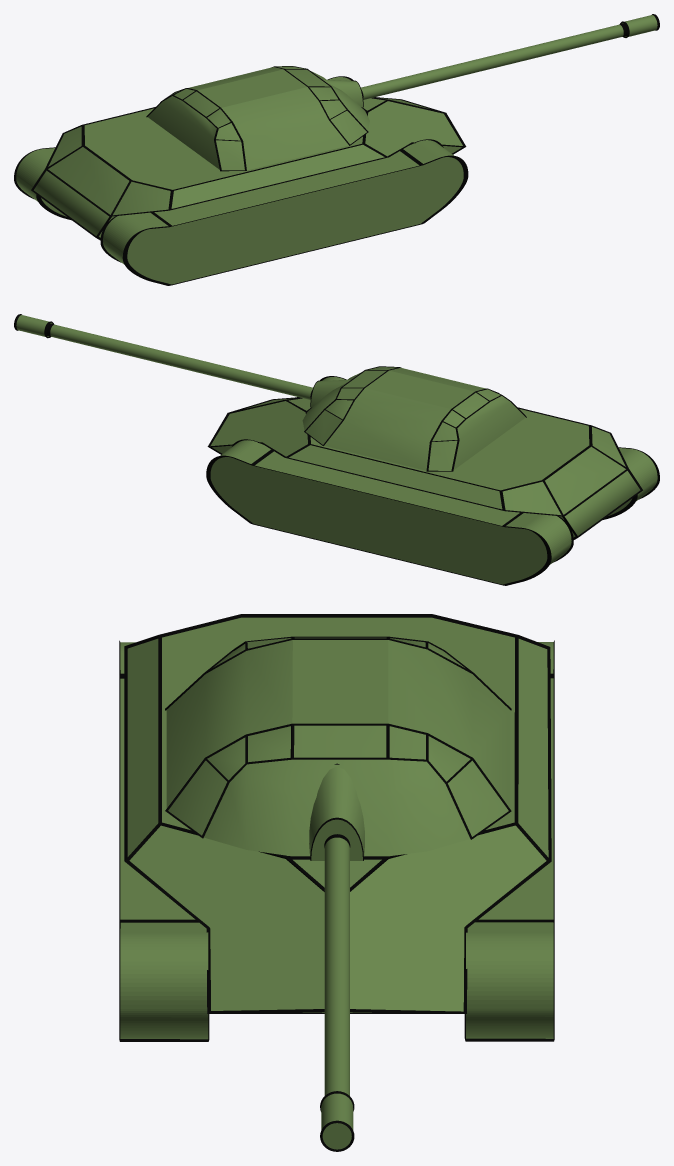
File: tank_is7_visual.glb
3 renders of one model, top to bottom at view 1: azimuth 30°, elevation 25°; view 2: azimuth 150°, elevation 25°; view 3: azimuth 270°, elevation 25°, orthographic. The views are drawn at different scales.
Parts seen in each view (by area): view 1: Cubo.002, Cubo, Cubo.001, Cilindro.001, Cubo.005, Cubo.006, Cubo.003, Cilindro.002, Cilindro; view 2: Cubo.003, Cubo, Cubo.001, Cilindro.001, Cubo.004, Cubo.006, Cubo.002, Cilindro.002, Cilindro; view 3: Cubo, Cubo.001, Cubo.002, Cubo.003, Cilindro.001, Cubo.006, Cilindro, Cubo.004, Cilindro.002, Cubo.005.
Part boxes in pixels (x1,y1,x2,y2): Cubo.002: [103, 140, 463, 284]; Cubo: [31, 97, 466, 241]; Cubo.001: [148, 66, 369, 170]; Cilindro.001: [361, 24, 623, 99]; Cubo.005: [100, 139, 468, 285]; Cubo.006: [146, 66, 368, 171]; Cubo.003: [16, 77, 351, 216]; Cilindro.002: [621, 15, 657, 36]; Cilindro: [323, 79, 362, 107]; Cubo.003: [210, 440, 571, 584]; Cubo: [207, 397, 642, 541]; Cubo.001: [302, 367, 525, 470]; Cilindro.001: [50, 324, 312, 399]; Cubo.004: [206, 439, 573, 585]; Cubo.006: [304, 366, 526, 471]; Cubo.002: [313, 377, 657, 515]; Cilindro.002: [16, 315, 52, 336]; Cilindro: [311, 379, 350, 407]; Cubo: [124, 614, 551, 1013]; Cubo.001: [166, 637, 510, 856]; Cubo.002: [120, 642, 208, 1039]; Cubo.003: [466, 642, 553, 1038]; Cilindro.001: [324, 837, 349, 1095]; Cubo.006: [165, 636, 511, 839]; Cilindro: [309, 766, 364, 860]; Cubo.004: [464, 640, 554, 1041]; Cilindro.002: [321, 1093, 353, 1149]; Cubo.005: [119, 640, 209, 1041].
Bounding box in the file's own units: 17.2 × 3.42 × 5.47.
